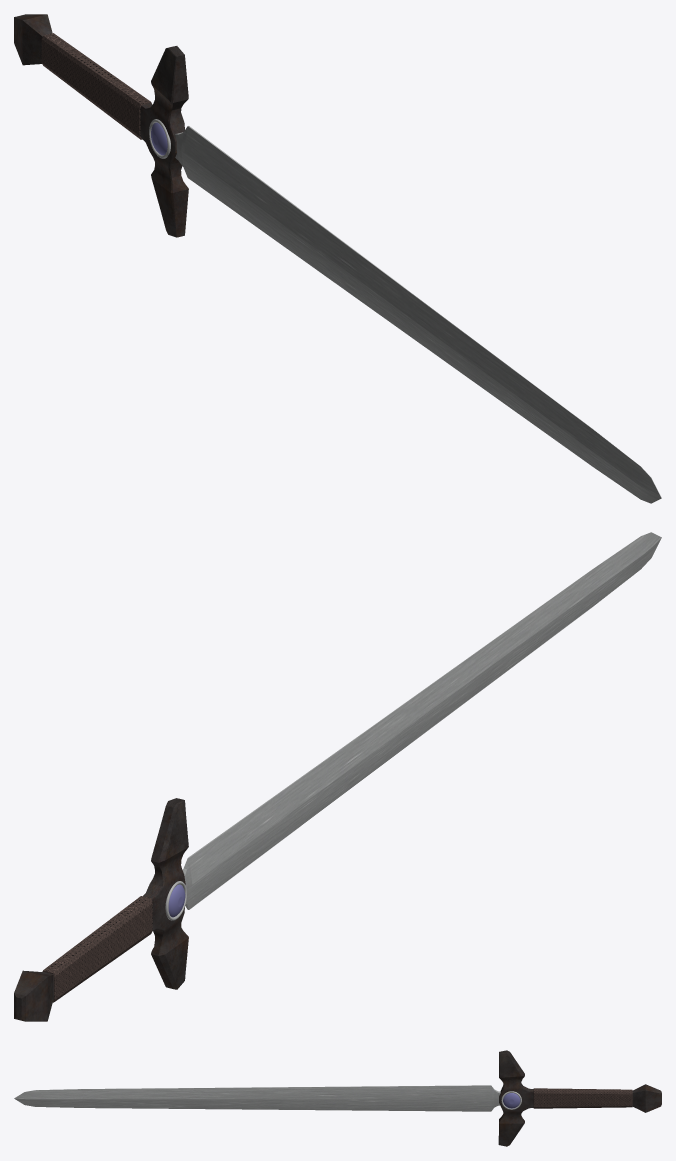
The model's file is Long Sword.fbx.
The picture shows the model from 3 angles, top to bottom: view 1: azimuth 30°, elevation 25°; view 2: azimuth 150°, elevation 25°; view 3: azimuth 270°, elevation 25°; orthographic projection. The views are drawn at different scales.
Visible parts, largest first — view 1: Long_Sword_Blade, Long_Sword_Hilt, Long_Sword_Handle, Long_Sword_Pommel; view 2: Long_Sword_Blade, Long_Sword_Hilt, Long_Sword_Handle, Long_Sword_Pommel; view 3: Long_Sword_Blade, Long_Sword_Handle, Long_Sword_Hilt, Long_Sword_Pommel, Long_Sword_Stone.
Boxes of the visible parts, left/top/right/bottom form: Long_Sword_Blade: left=175, top=126, right=661, bottom=503; Long_Sword_Hilt: left=140, top=46, right=188, bottom=237; Long_Sword_Handle: left=41, top=33, right=151, bottom=139; Long_Sword_Pommel: left=14, top=14, right=52, bottom=65; Long_Sword_Blade: left=182, top=532, right=661, bottom=909; Long_Sword_Hilt: left=143, top=798, right=188, bottom=989; Long_Sword_Handle: left=42, top=896, right=152, bottom=1002; Long_Sword_Pommel: left=14, top=970, right=53, bottom=1021; Long_Sword_Blade: left=14, top=1085, right=500, bottom=1111; Long_Sword_Handle: left=533, top=1088, right=632, bottom=1108; Long_Sword_Hilt: left=498, top=1050, right=533, bottom=1146; Long_Sword_Pommel: left=632, top=1084, right=661, bottom=1112; Long_Sword_Stone: left=503, top=1093, right=520, bottom=1108.
Size of the model in its own units: 0.3262 by 2.26 by 14.11.
